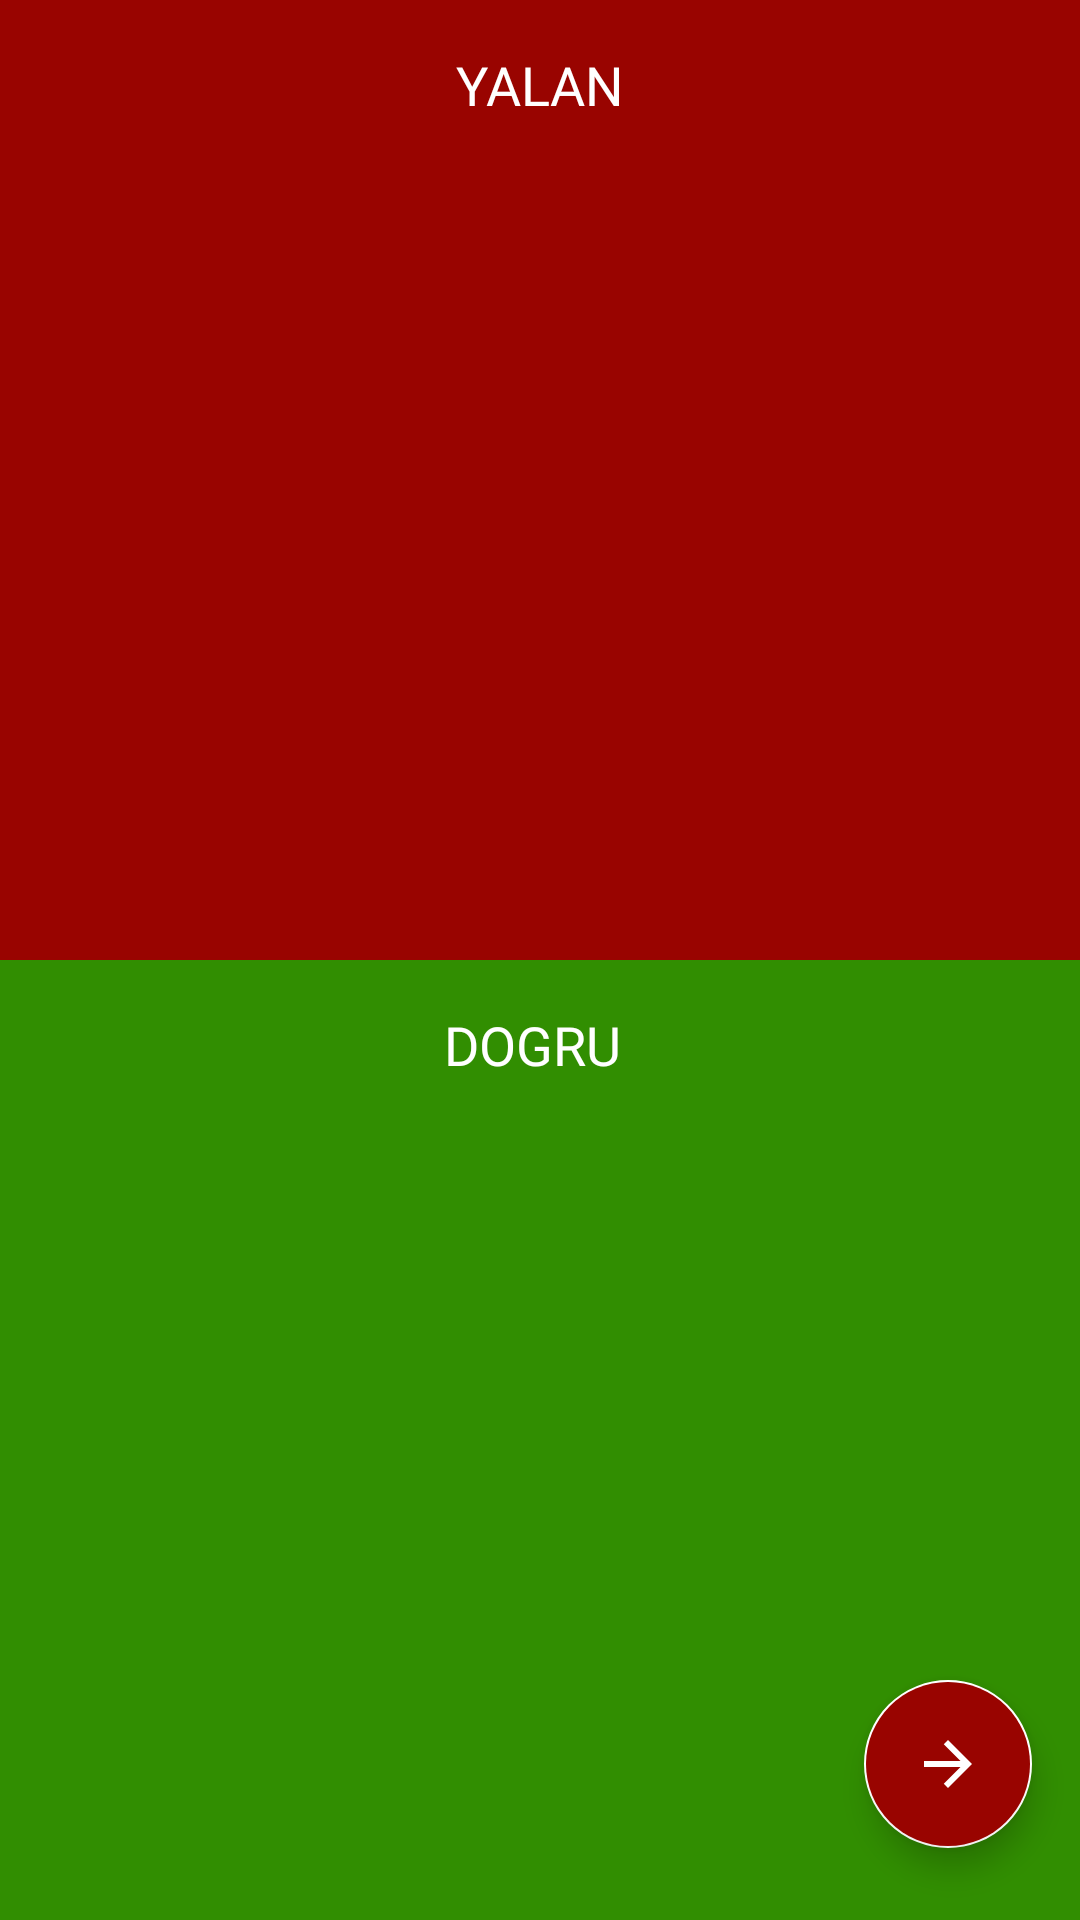

Locate icon controls on the screen. Image size 1080px×1920px, boxes as bbox(x1, y1, x2, y2).
arrow forward: bbox(864, 1680, 1032, 1848)
